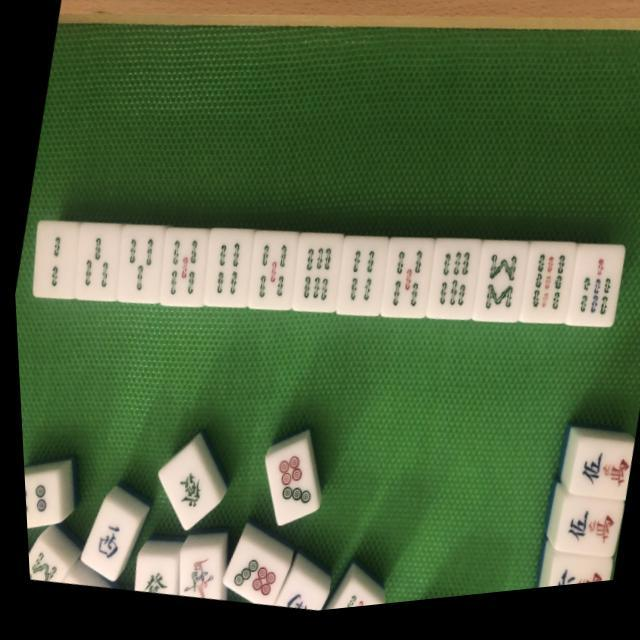sb2: (30, 227, 74, 294)
sb3: (114, 230, 162, 302), (71, 228, 118, 296)
sb4: (333, 248, 380, 317), (202, 236, 248, 306)
sb5: (154, 233, 204, 310), (380, 250, 428, 322), (245, 239, 292, 311)
sb6: (289, 240, 339, 314), (426, 250, 474, 324)
sb7: (566, 258, 618, 334)
sb8: (472, 253, 522, 328)
sb9: (518, 254, 571, 329)
